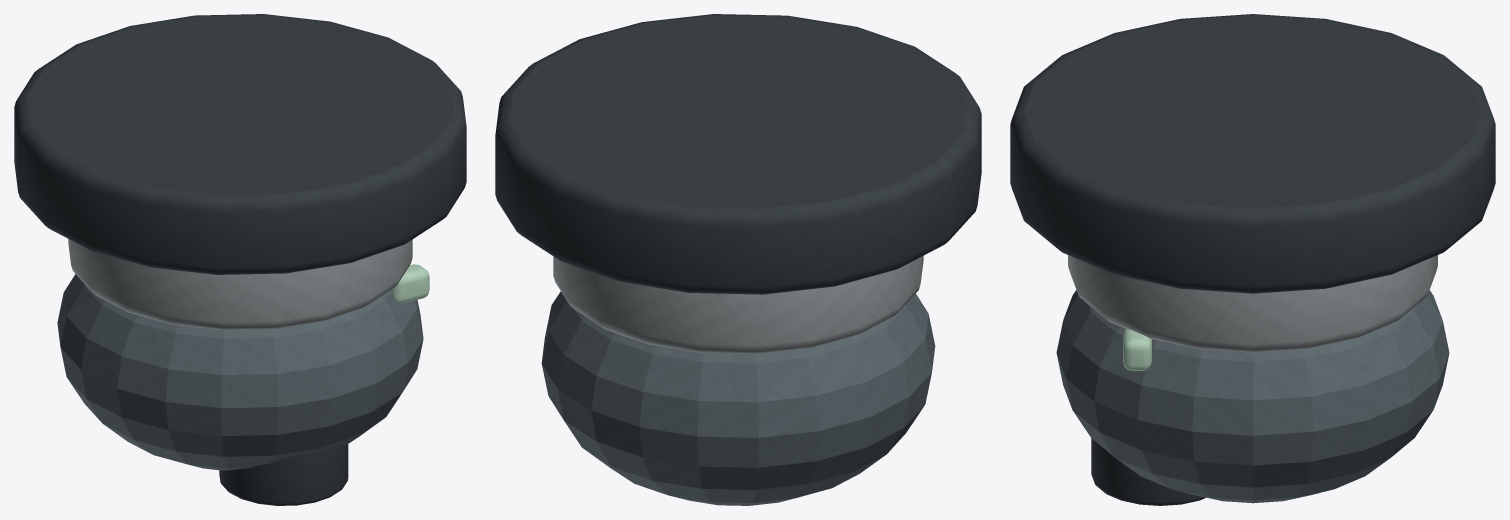
File: CeilingDomeCamera.glb
3 renders of one model, left to right at view 1: azimuth 30°, elevation 25°; view 2: azimuth 150°, elevation 25°; view 3: azimuth 270°, elevation 25°, orthographic. The views are drawn at different scales.
Parts seen in each view (by area): view 1: CeilingDomeCamera_Mesh; view 2: CeilingDomeCamera_Mesh; view 3: CeilingDomeCamera_Mesh.
Part boxes in pixels (box(x1,y1,x2,y2)): CeilingDomeCamera_Mesh: box(14, 14, 466, 505); CeilingDomeCamera_Mesh: box(495, 14, 981, 505); CeilingDomeCamera_Mesh: box(1010, 14, 1495, 505).
Bounding box in the file's own units: 0.42 × 0.35 × 0.42.
Materials: 5 (5 with a texture image).
